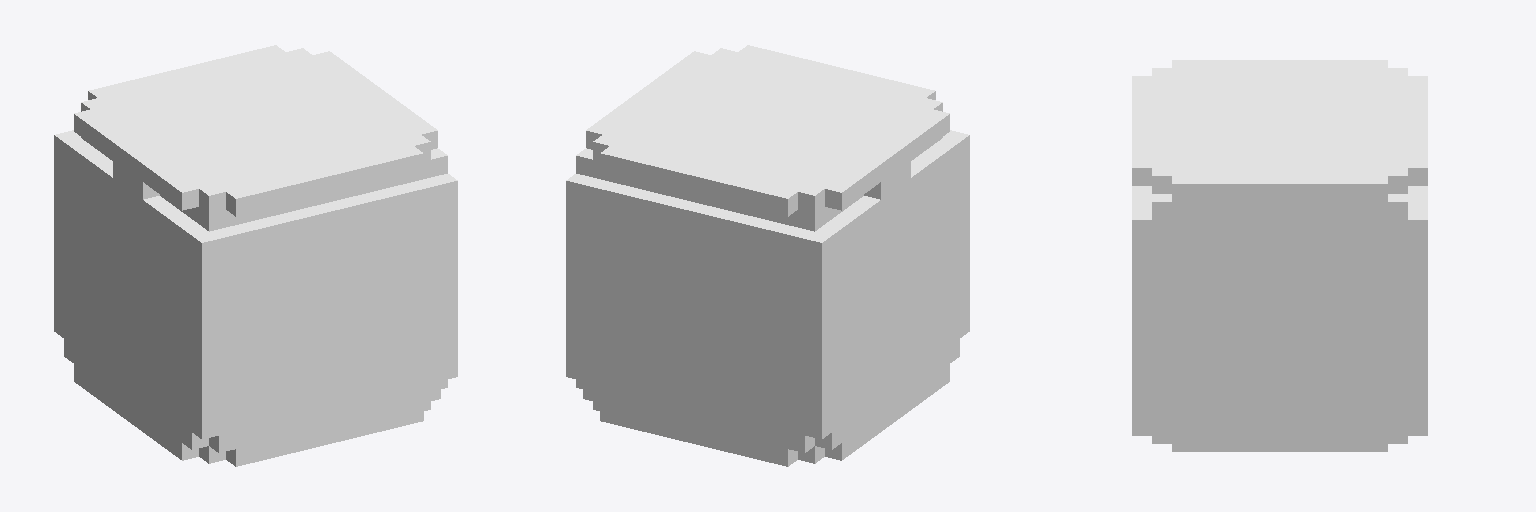
The model's file is cratevship.obj.
3 renders of one model, left to right at view 1: azimuth 30°, elevation 25°; view 2: azimuth 150°, elevation 25°; view 3: azimuth 270°, elevation 25°, orthographic.
Parts seen in each view (by area): view 1: object 1; view 2: object 1; view 3: object 1.
Part boxes in pixels (left/top/right/bottom): object 1: left=54, top=45, right=457, bottom=466; object 1: left=566, top=45, right=969, bottom=466; object 1: left=1132, top=60, right=1427, bottom=451.
Bounding box in the file's own units: 1.5 × 1.5 × 1.5.